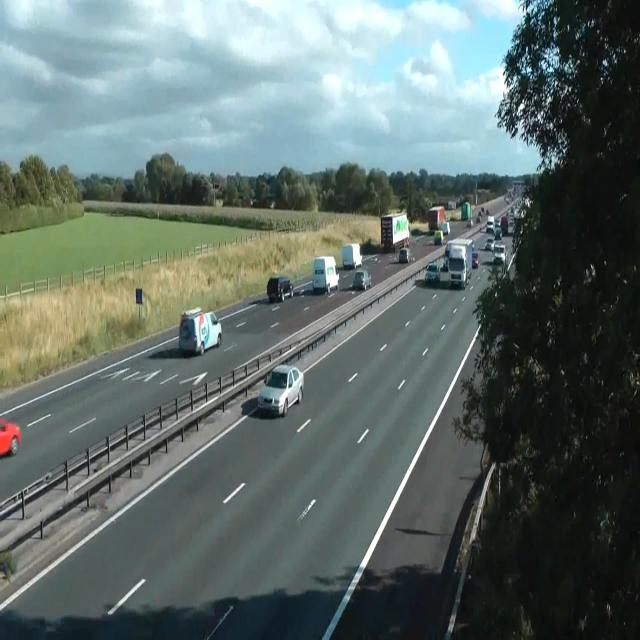bus: (0, 418, 21, 457), (352, 269, 372, 291), (424, 261, 440, 283), (398, 247, 410, 263), (484, 237, 494, 251), (440, 220, 450, 234), (471, 252, 479, 268), (494, 226, 502, 238), (466, 218, 472, 228), (250, 198, 257, 206), (269, 201, 275, 209)
jeep: (257, 363, 304, 417), (178, 306, 222, 356), (312, 255, 339, 294), (267, 276, 293, 302), (492, 243, 506, 263), (434, 228, 444, 244)
minibus: (444, 238, 474, 289), (380, 211, 410, 253), (342, 243, 362, 269), (428, 205, 444, 233), (461, 201, 471, 220), (448, 201, 456, 210)
